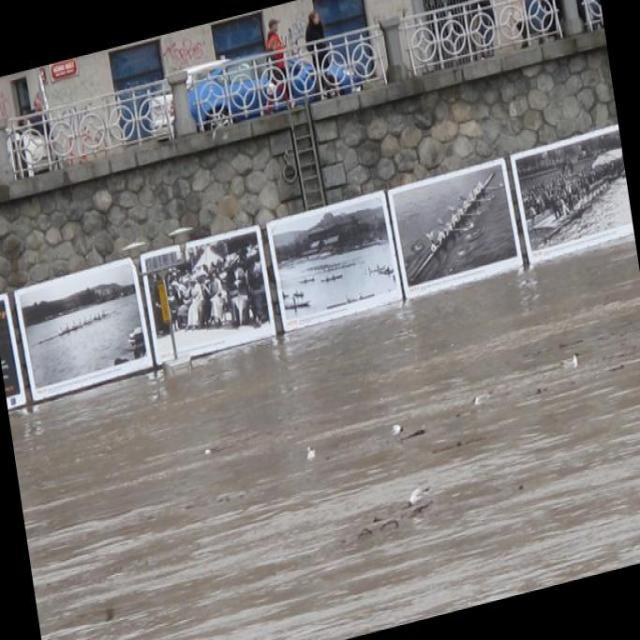flood: (3, 214, 639, 639)
